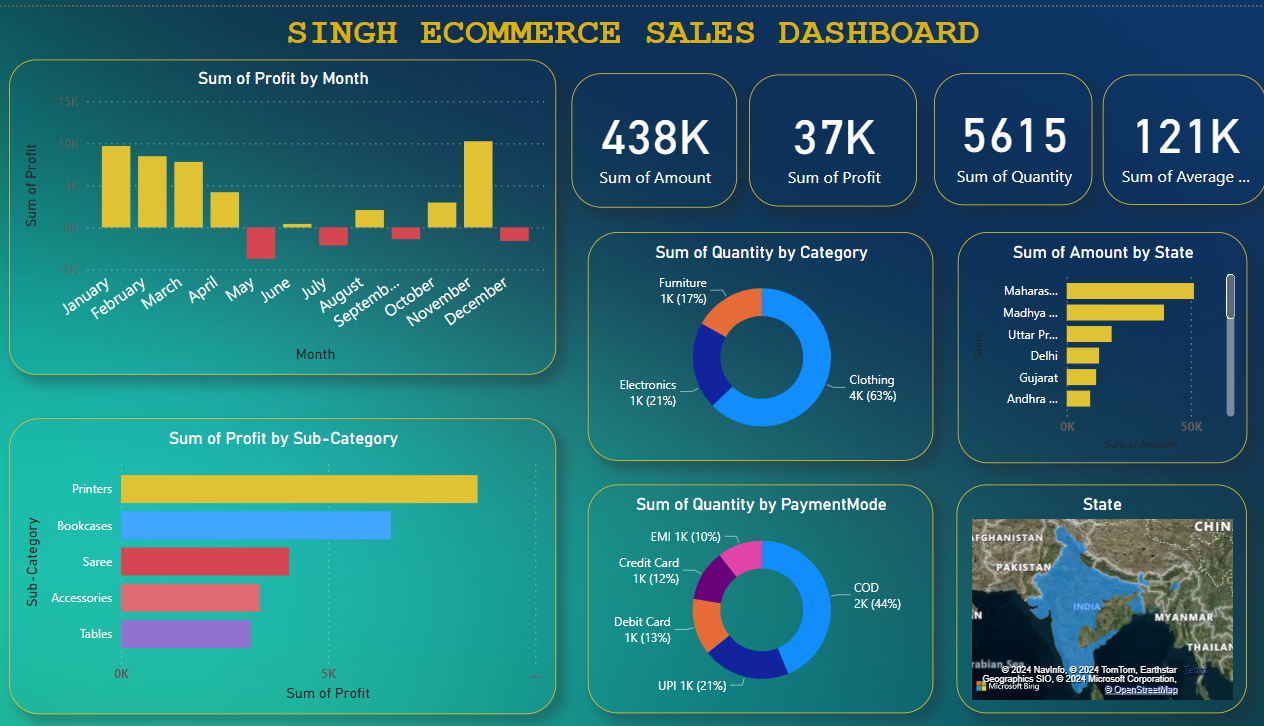

Layout of this report page (visuals, bound fields, positions):
{"tool":"powerbi","page":{"name":"Page 1","canvas":[1280,720],"ordinal":0},"visuals":[{"type":"columnChart","fields":{"Category":["Cleaned_Orders.Order Date.Variation.Date Hierarchy.Month"],"Y":["Details.Profit"]},"box":[9.7,52.8,547.1,315.2],"z":0},{"type":"textbox","box":[0,0,1267.9,52.1],"z":1000},{"type":"barChart","fields":{"Category":["Details.Sub-Category"],"Y":["Details.Profit"]},"box":[9.7,411,547.1,295.8],"z":2000},{"type":"donutChart","fields":{"Category":["Details.Category"],"Y":["Details.Quantity"]},"box":[588.8,225,345.8,229.1],"z":3000},{"type":"donutChart","fields":{"Y":["Details.Quantity"],"Category":["Details.PaymentMode"]},"box":[588.8,477.7,345.8,229.1],"z":4000},{"type":"card","fields":{"Values":["Details.Amount"]},"box":[572.1,66.7,165.2,134.7],"z":5000},{"type":"card","fields":{"Values":["Details.Profit"]},"box":[749.8,68,168,131.9],"z":6000},{"type":"card","fields":{"Values":["Details.Quantity"]},"box":[934.5,66.7,158.3,131.9],"z":7000},{"type":"card","fields":{"Values":["Details.Average Order Value"]},"box":[1103.9,68,163.9,130.5],"z":8000},{"type":"barChart","fields":{"Category":["Cleaned_Orders.State"],"Y":["Details.Amount"]},"box":[958.4,224.9,289.7,231],"z":9000},{"type":"filledMap","fields":{"Category":["Cleaned_Orders.State"]},"box":[958,478,290,229],"z":9001}]}

Visuals, with their boxes in screenshot pixels (x1, y1, x2, y2), scaled from the page's 1280x720 canvas onto the 1264x726 screenshot:
columnChart - Cleaned_Orders.Order Date.Variation.Date Hierarchy.Month x Details.Profit: <region>10, 53, 550, 371</region>
textbox: <region>0, 0, 1252, 53</region>
barChart - Details.Sub-Category x Details.Profit: <region>10, 414, 550, 713</region>
donutChart - Details.Category x Details.Quantity: <region>581, 227, 923, 458</region>
donutChart - Details.Quantity x Details.PaymentMode: <region>581, 482, 923, 713</region>
card - Details.Amount: <region>565, 67, 728, 203</region>
card - Details.Profit: <region>740, 69, 906, 202</region>
card - Details.Quantity: <region>923, 67, 1079, 200</region>
card - Details.Average Order Value: <region>1090, 69, 1252, 200</region>
barChart - Cleaned_Orders.State x Details.Amount: <region>946, 227, 1232, 460</region>
filledMap - Cleaned_Orders.State: <region>946, 482, 1232, 713</region>
